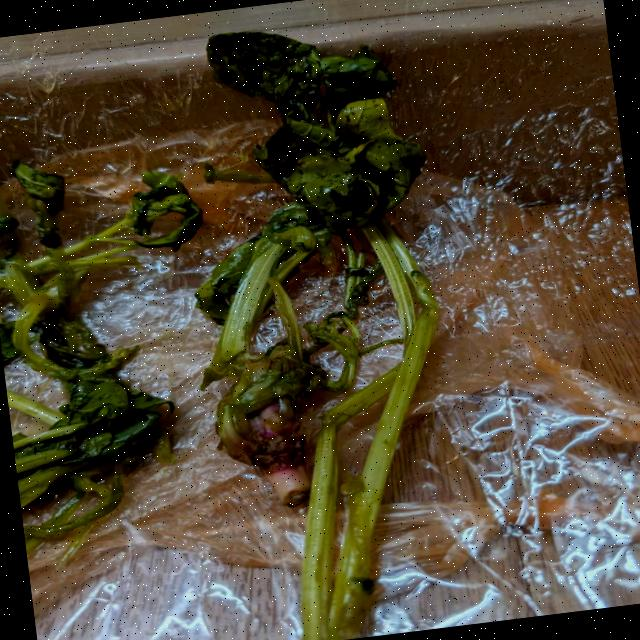rotten spinach: (0, 20, 504, 640), (155, 15, 430, 640), (0, 107, 217, 529), (180, 206, 451, 467), (192, 4, 414, 258)
